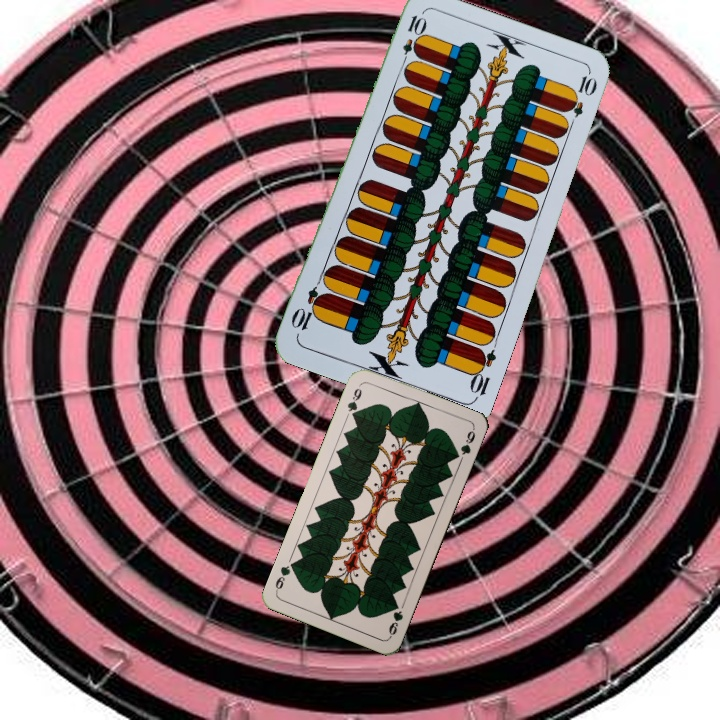E10: (465, 344, 499, 403), (397, 11, 427, 70)
G9: (384, 598, 406, 640), (343, 381, 364, 421)
